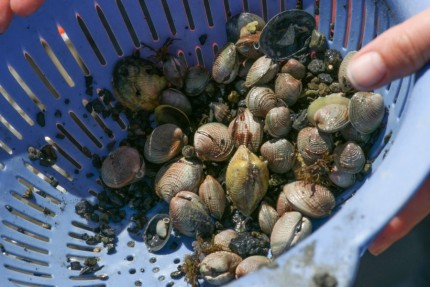cockle: (225, 142, 271, 221), (111, 53, 166, 115), (165, 190, 217, 239), (154, 153, 205, 201), (99, 145, 148, 189), (141, 122, 190, 166), (267, 211, 314, 255), (280, 180, 335, 216), (228, 105, 266, 156), (192, 121, 235, 162), (349, 91, 385, 136), (297, 126, 334, 167), (199, 250, 241, 286), (260, 135, 297, 175), (196, 174, 226, 221), (225, 11, 265, 43), (211, 41, 239, 85), (243, 52, 279, 86), (161, 84, 195, 117), (245, 84, 277, 117), (314, 102, 349, 131), (275, 70, 302, 107), (184, 63, 213, 96), (162, 52, 187, 89), (266, 106, 293, 137), (338, 49, 352, 95)
